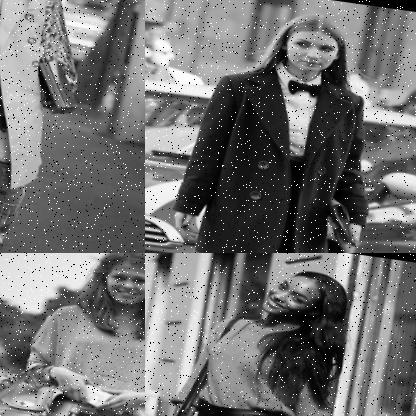jacket: (167, 53, 385, 253), (0, 0, 95, 200)
pants: (0, 37, 48, 253)
polar: (163, 307, 346, 416)
shirt: (15, 294, 145, 416)
